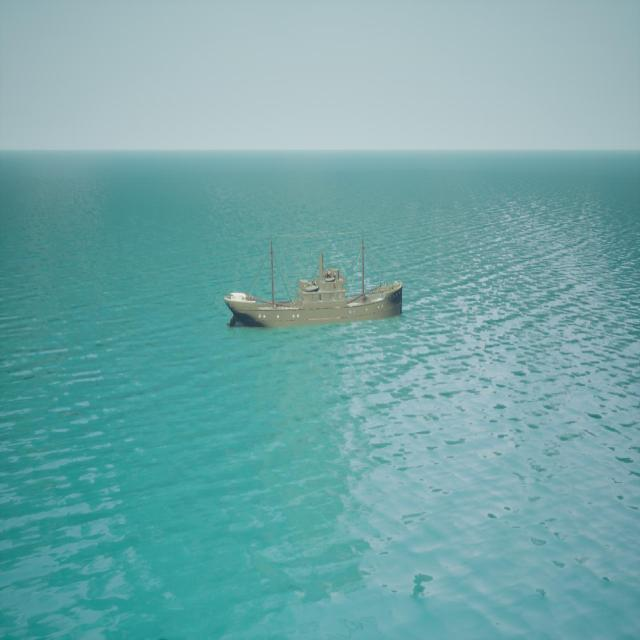fishing ship: (226, 237, 404, 332)
